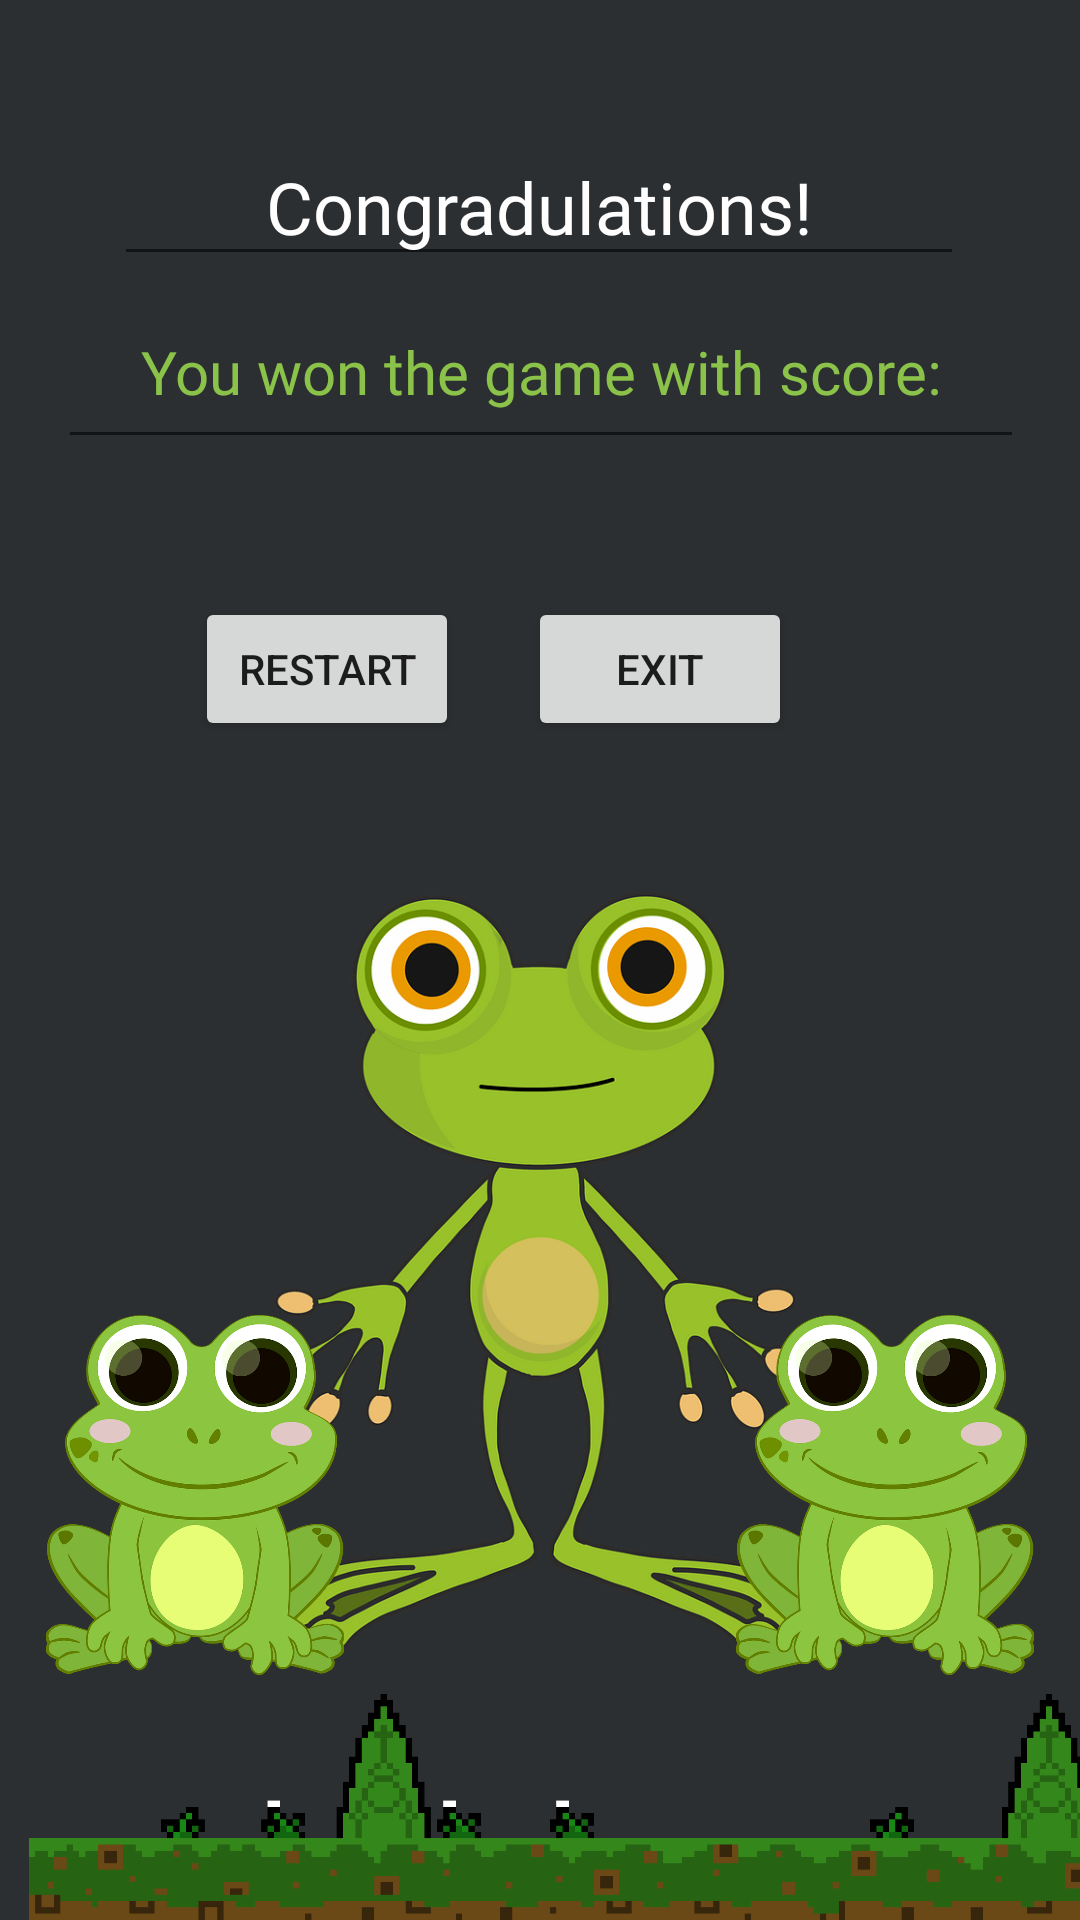

Screen size 1080 x 1920. Icon name, then its box in pixels as (x1, y1, x2, y2):
happy frog: (46, 1315, 390, 1675), (690, 1315, 1034, 1675)
